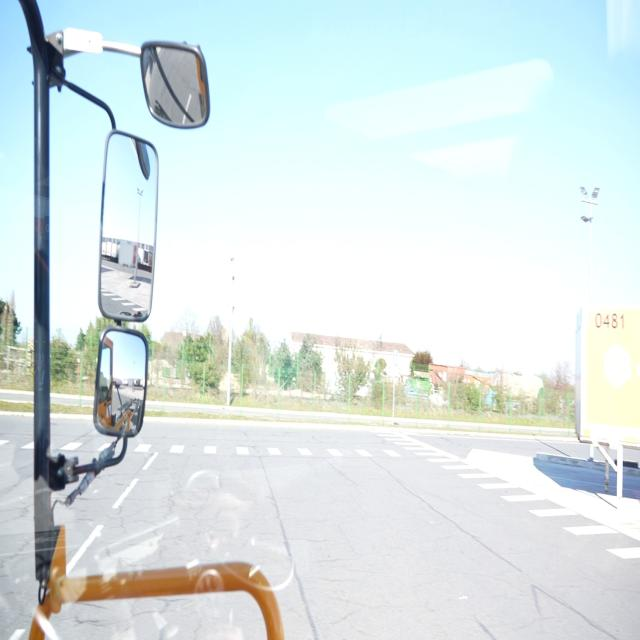Code: (589, 308, 628, 332)
